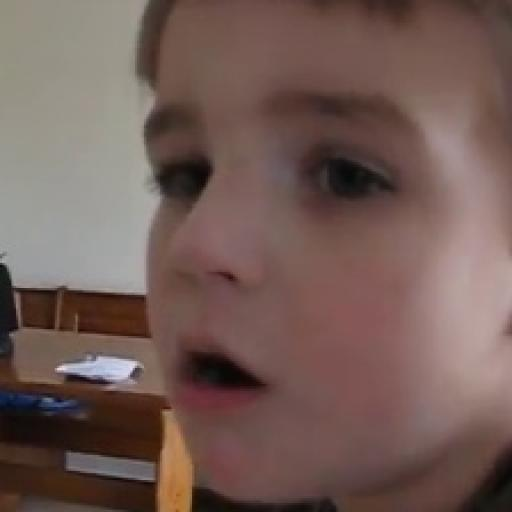Autism: (86, 0, 512, 472)
